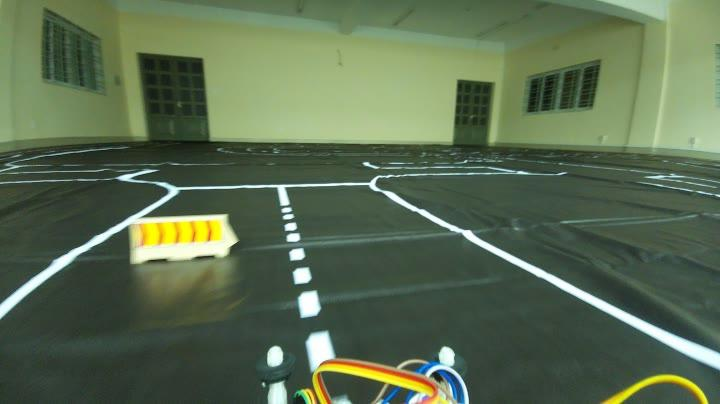roadblock: (120, 215, 233, 264)
